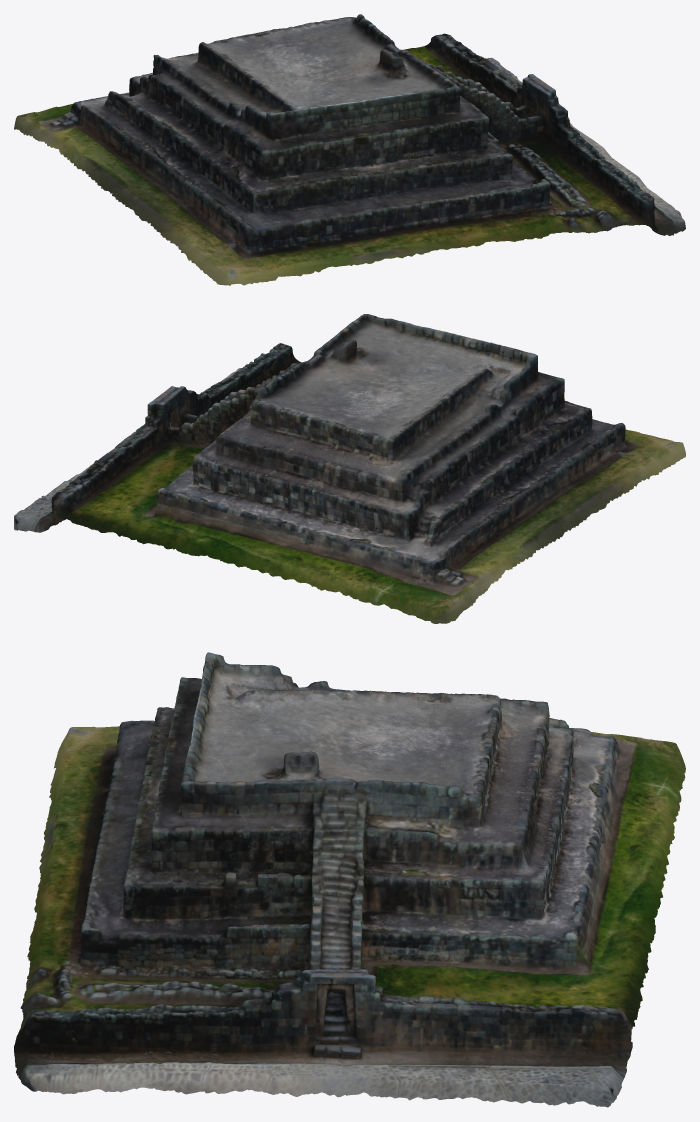
File: ushnu.glb
3 views of the same model, one above another, from view 1: azimuth 30°, elevation 25°; view 2: azimuth 150°, elevation 25°; view 3: azimuth 270°, elevation 25° (orthographic). The views are drawn at different scales.
Visible parts, largest first — view 1: Model; view 2: Model; view 3: Model.
Part boxes in pixels (left/top/right/bottom): Model: left=14, top=14, right=685, bottom=285; Model: left=14, top=314, right=685, bottom=623; Model: left=14, top=652, right=685, bottom=1107.
Bounding box in the file's own units: 39.62 × 12.4 × 35.75.
1 material, 1 textured.
